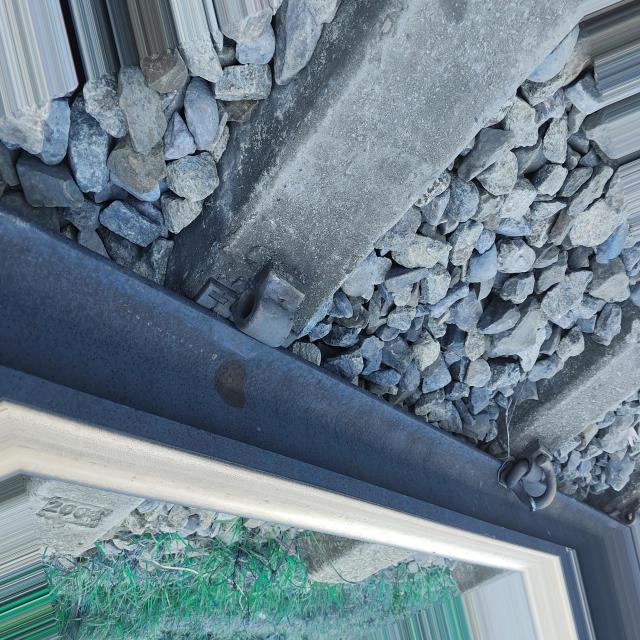Good Fasteners: (492, 441, 572, 526)
Missing Fastener: (208, 247, 303, 363)
